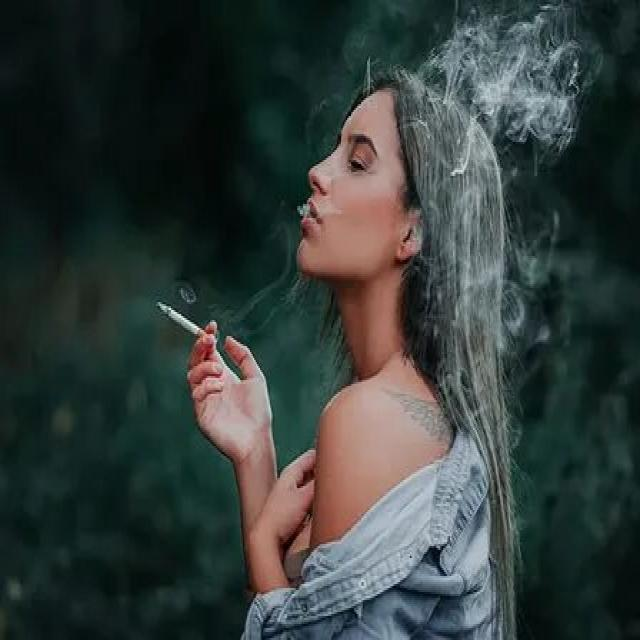cigarette: (153, 298, 216, 350)
